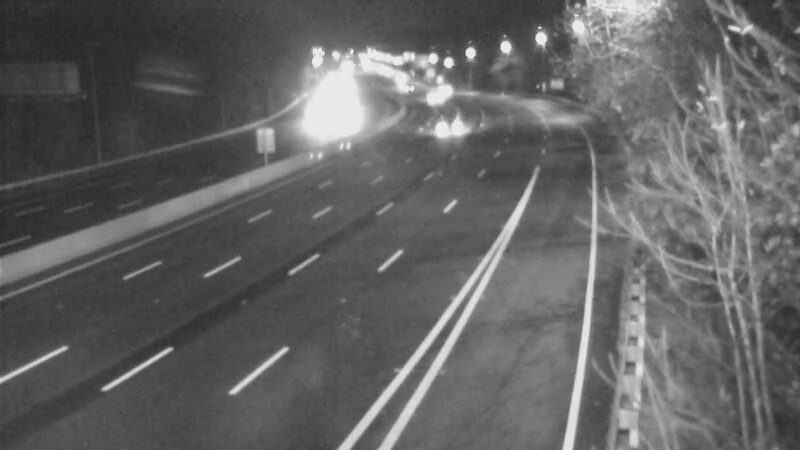vehicle: (386, 64, 436, 114), (421, 66, 471, 116), (408, 70, 458, 120), (419, 103, 469, 153), (284, 99, 334, 149)
